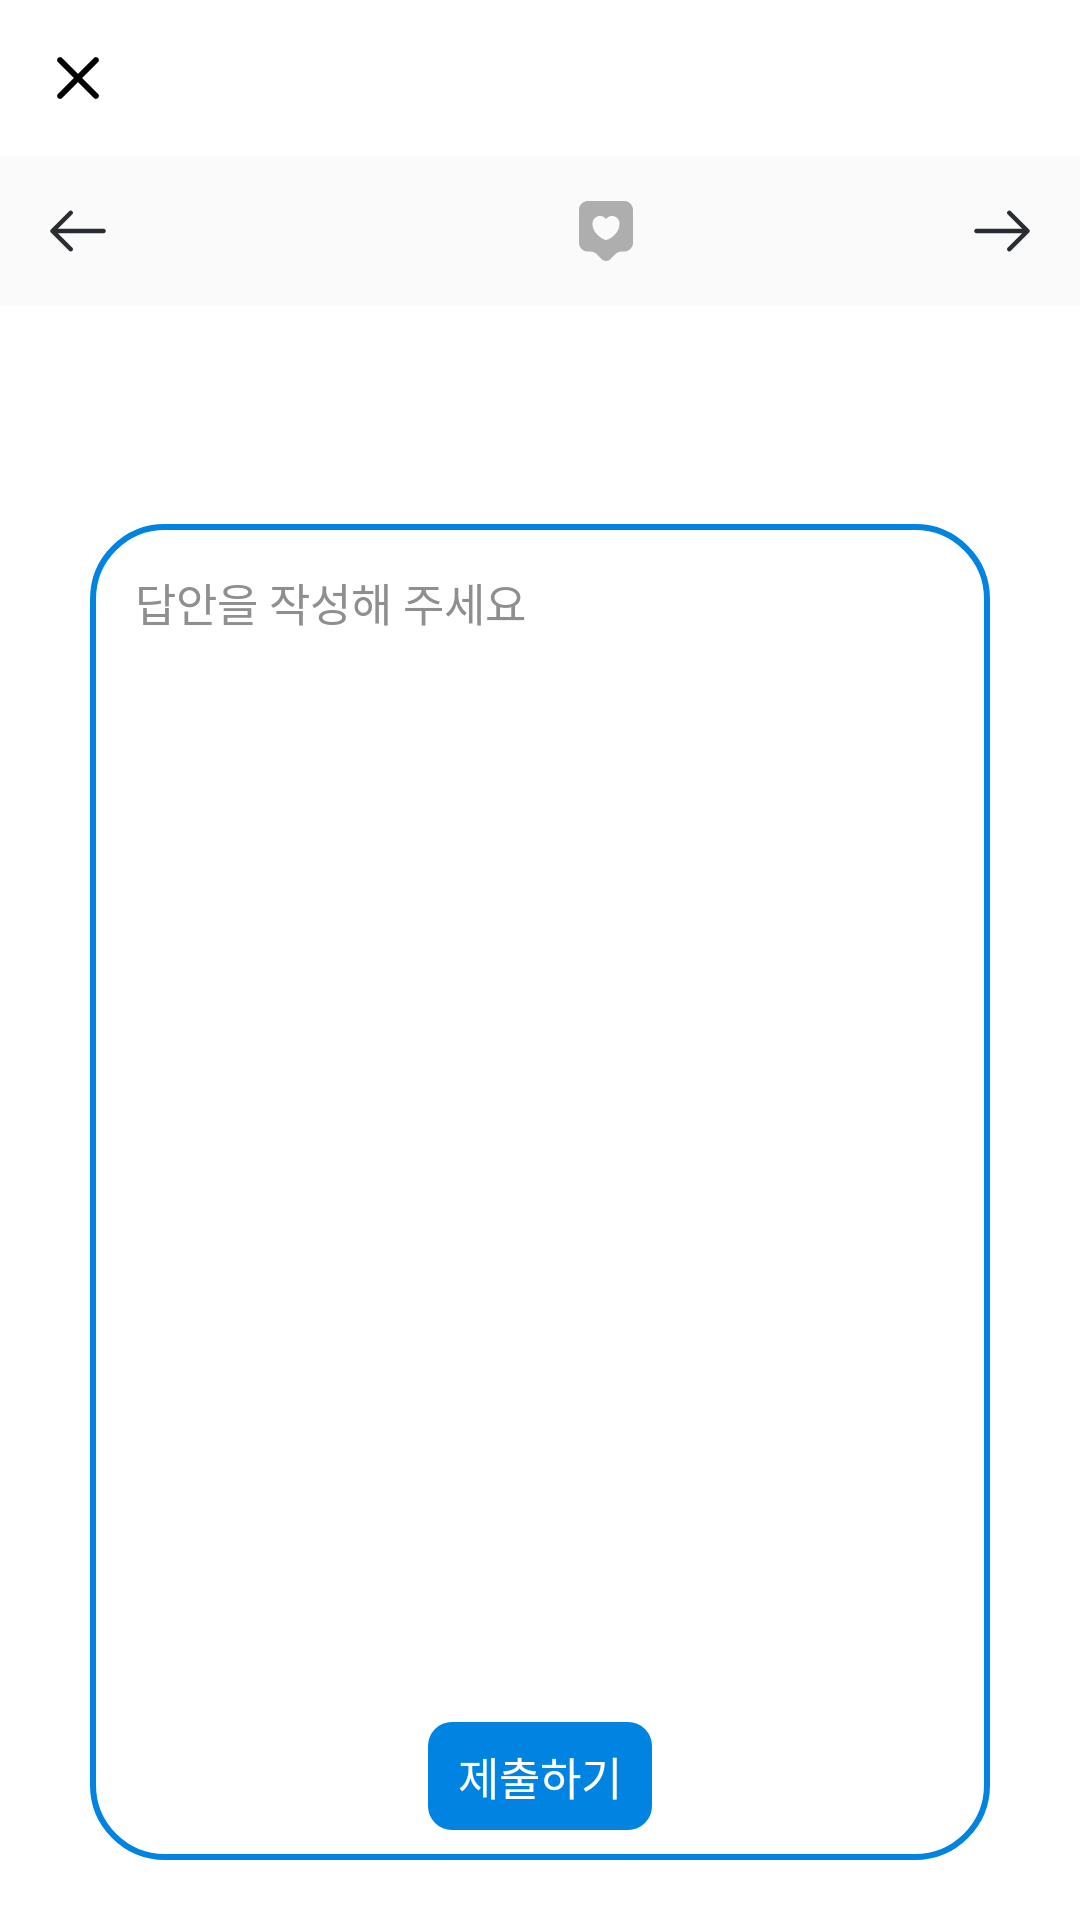

Where icons sit on this 1080*1920 app screen, as (x1, y1, x2, y2):
close: (57, 57, 99, 99)
favorite: (579, 201, 633, 261)
left: (50, 210, 106, 252)
right: (974, 210, 1030, 252)
